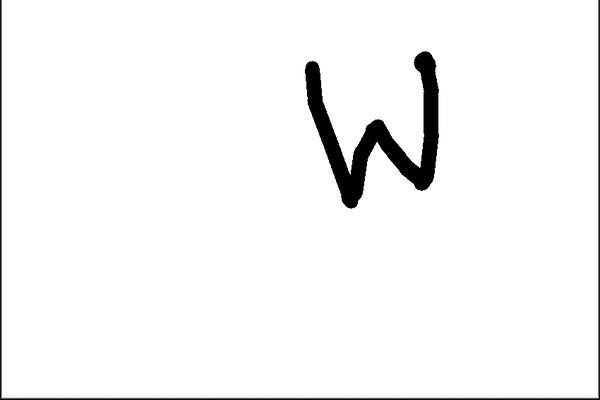w: (288, 36, 458, 220)
